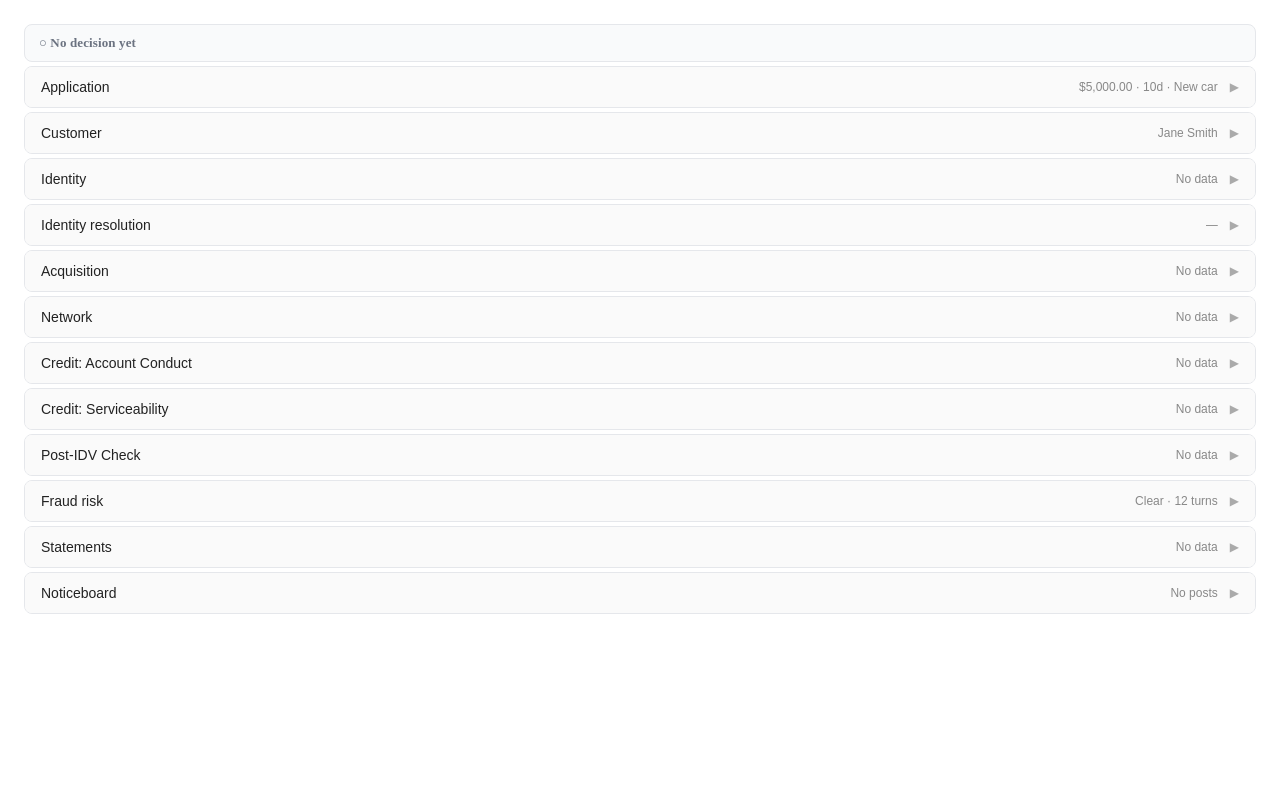
Test: AssessmentPanel — fraud risk summary › shows "Clear · N turns" and the no-signals line when the peak is LOW
Expected: the text "Clear · 12 turns" is shown, 1135,494 -> 1218,508
Click the button "Fraud risk Clear · 12 turns ▶". click: (72, 501)
box: 25,481 -> 1255,521
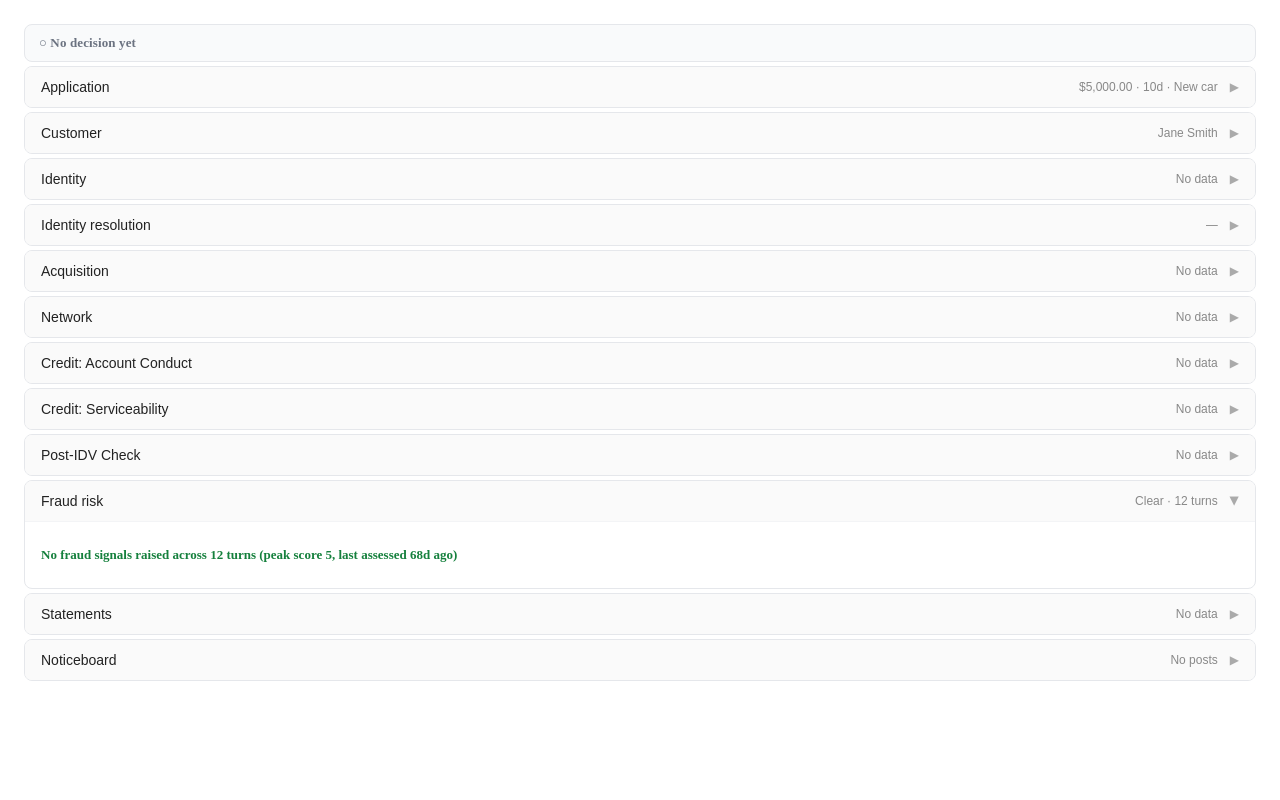
Expected: the text "No fraud signals raised across 12 turns (peak score 5" is shown, 41,547 -> 457,562
